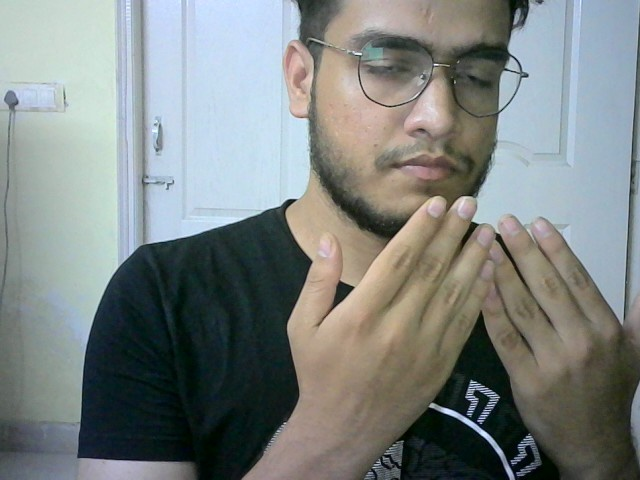Thank You: (294, 186, 640, 428)
